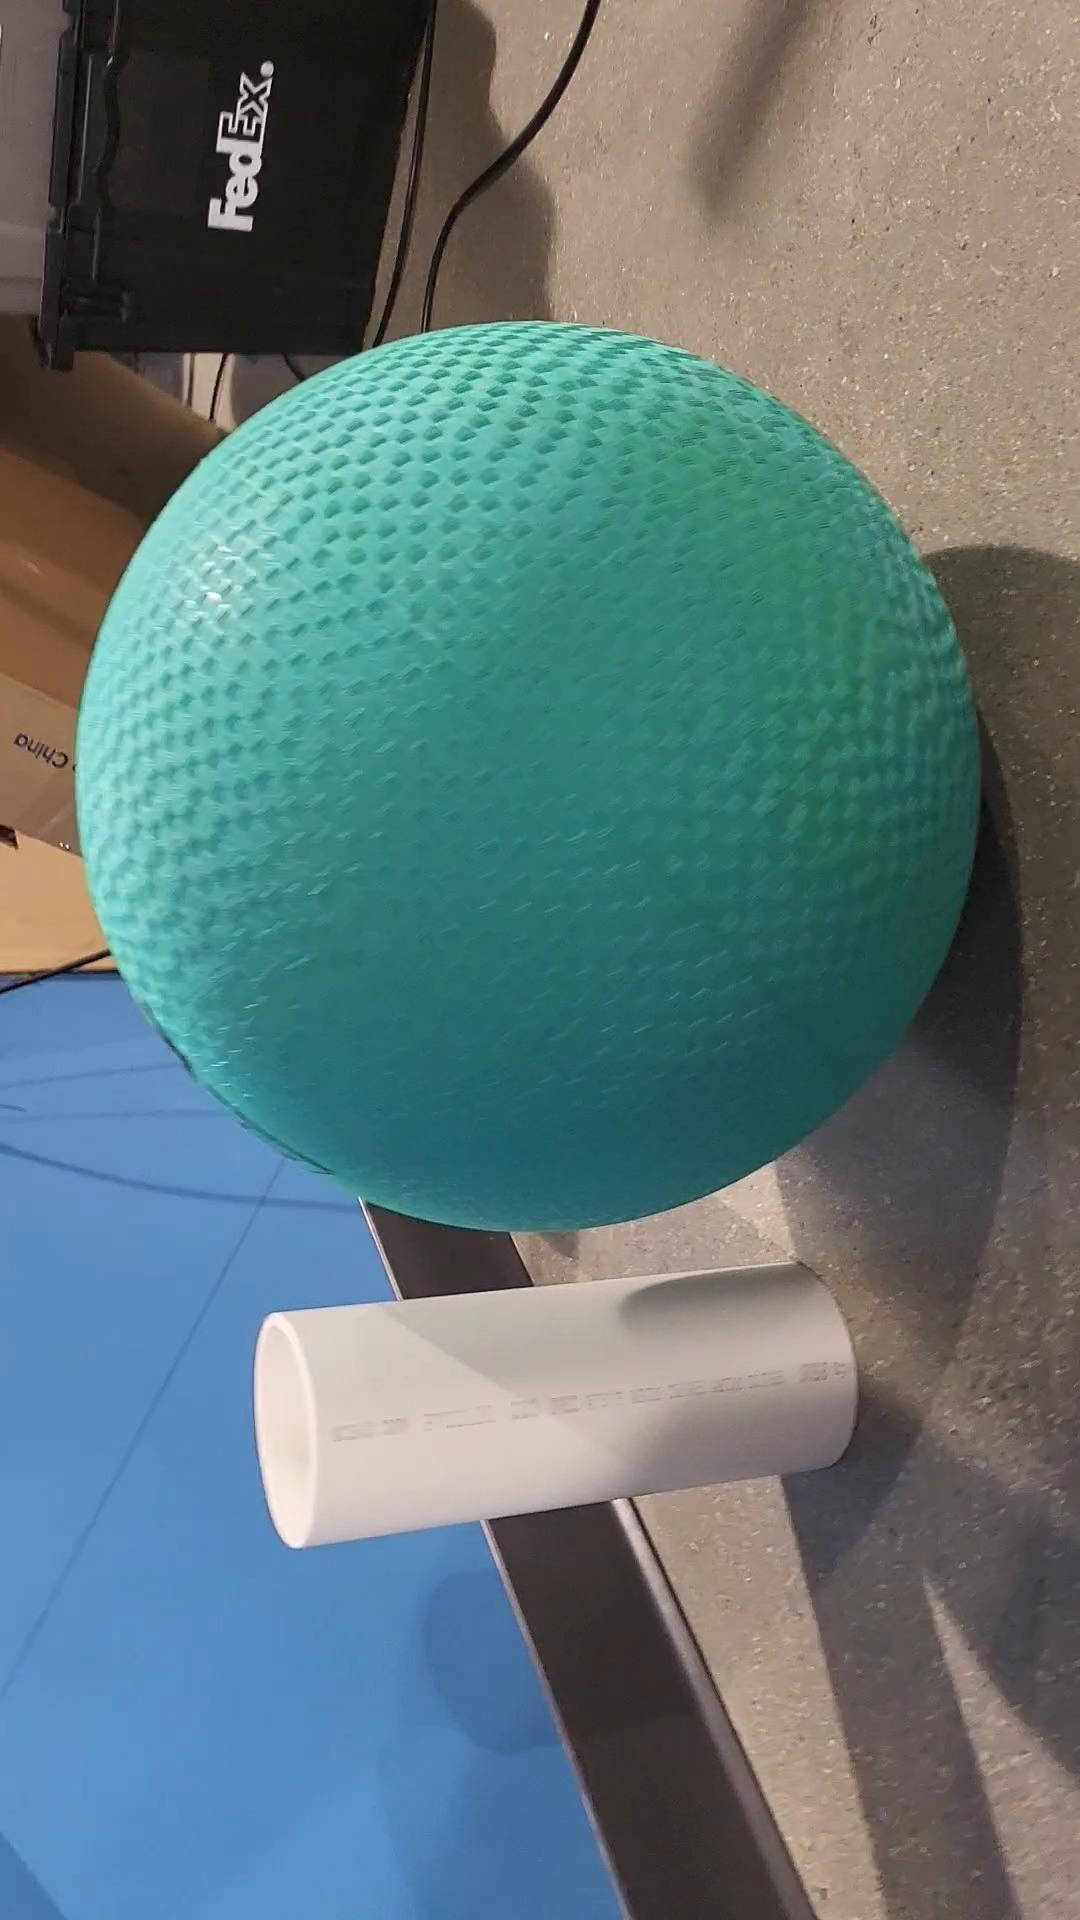algae: (75, 323, 977, 1230)
coral: (252, 1258, 852, 1543)
